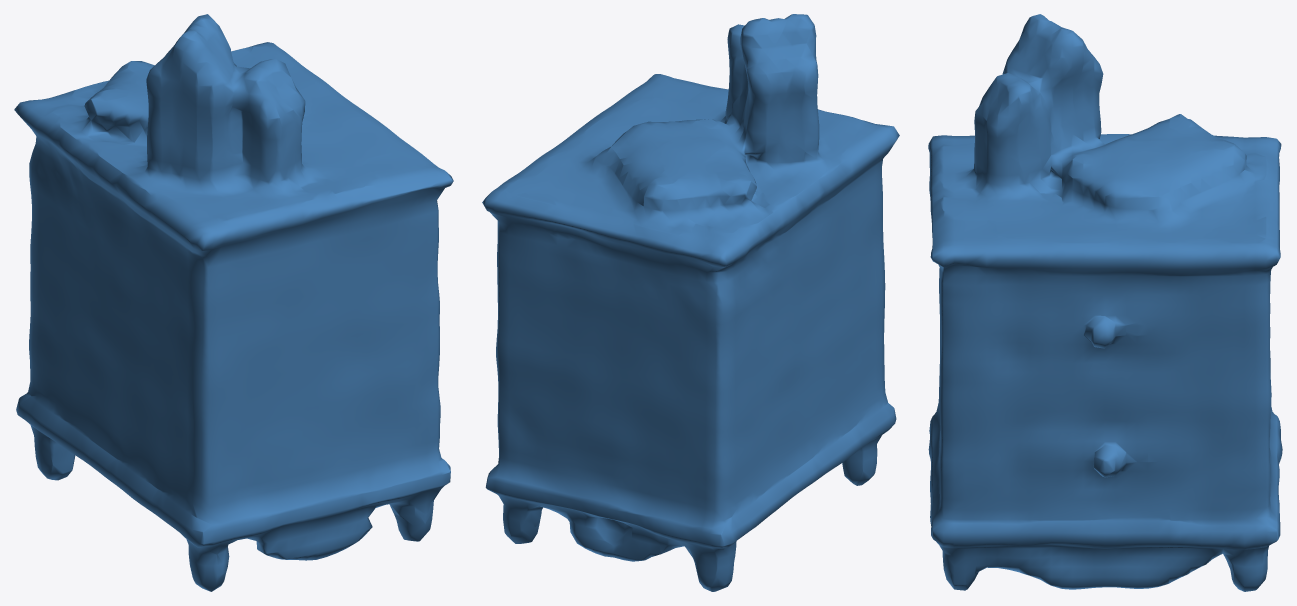
Rendered from nightstand_8_2.obj.
3 views of the same model, side by side, from view 1: azimuth 30°, elevation 25°; view 2: azimuth 150°, elevation 25°; view 3: azimuth 270°, elevation 25° (orthographic). The views are drawn at different scales.
Size of the model in its own units: 0.4386 by 0.7883 by 0.515.
